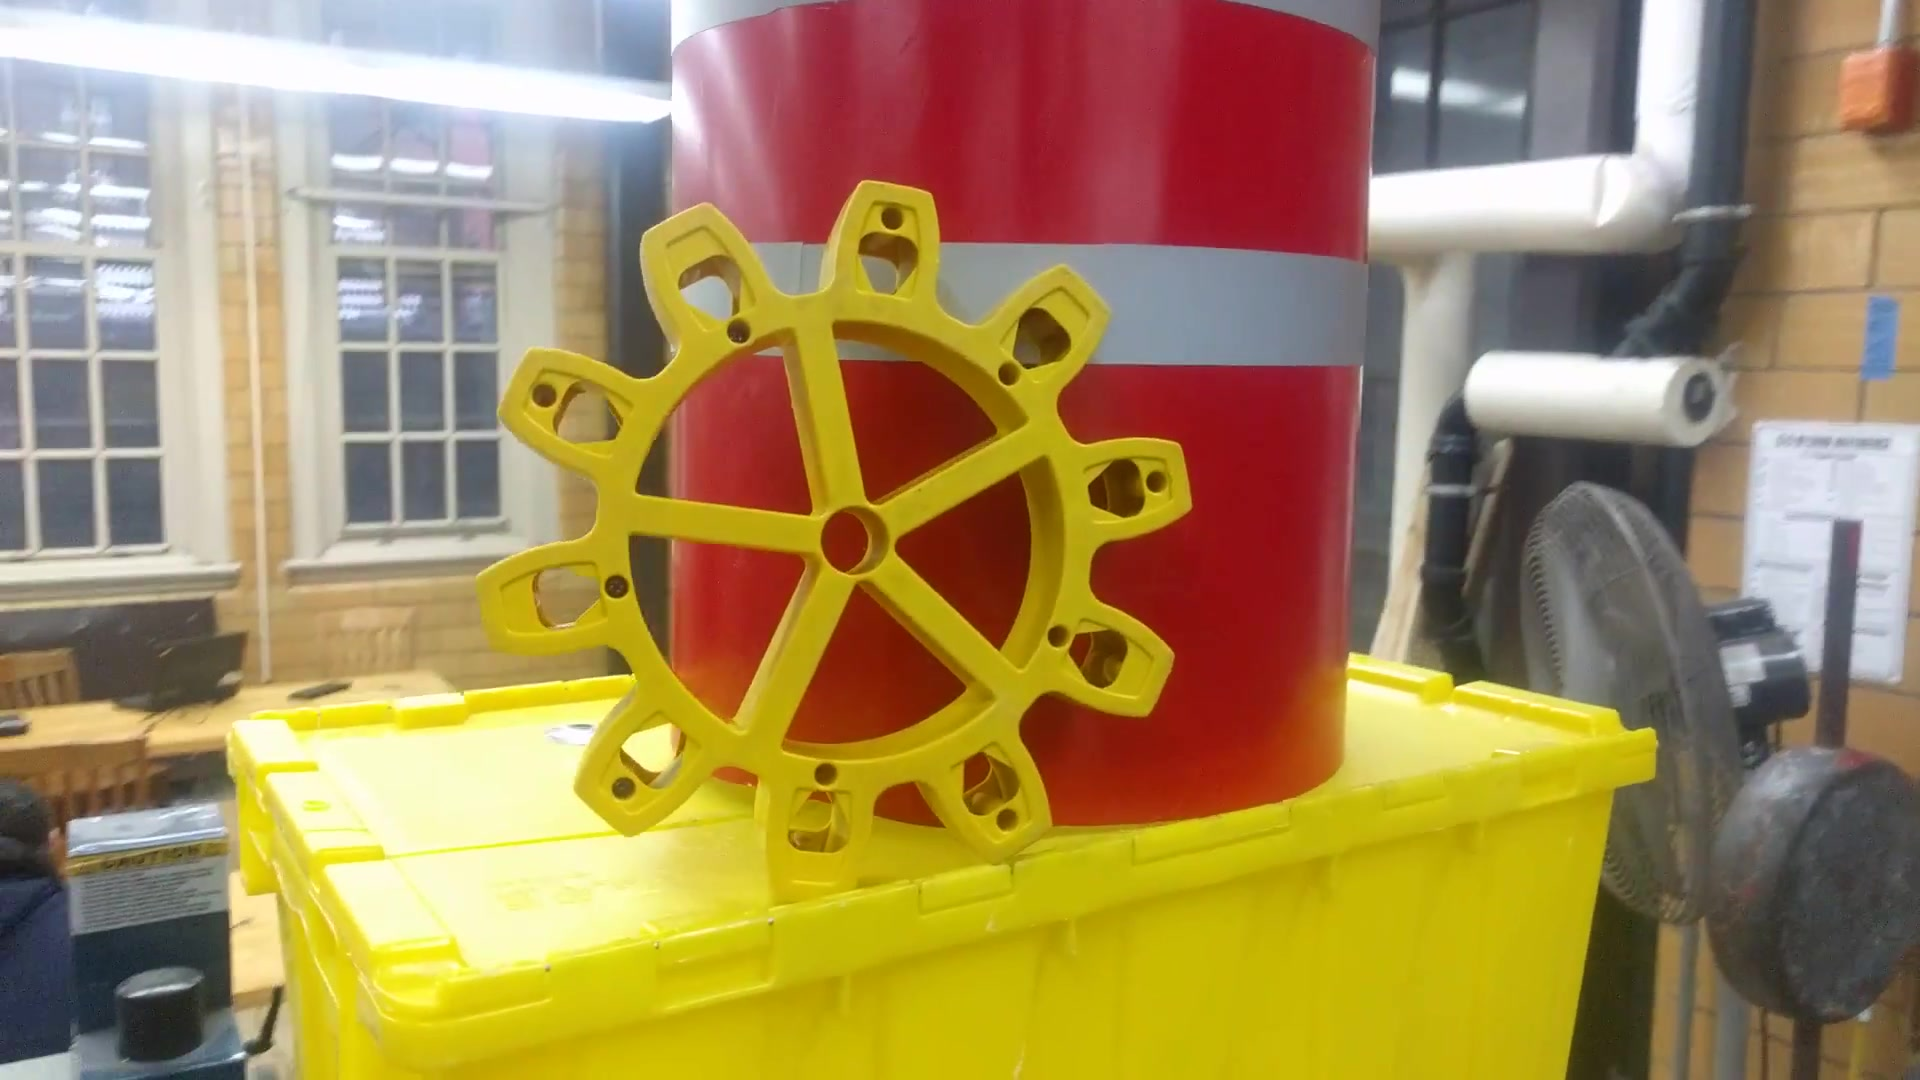gear: (488, 175, 1216, 899)
